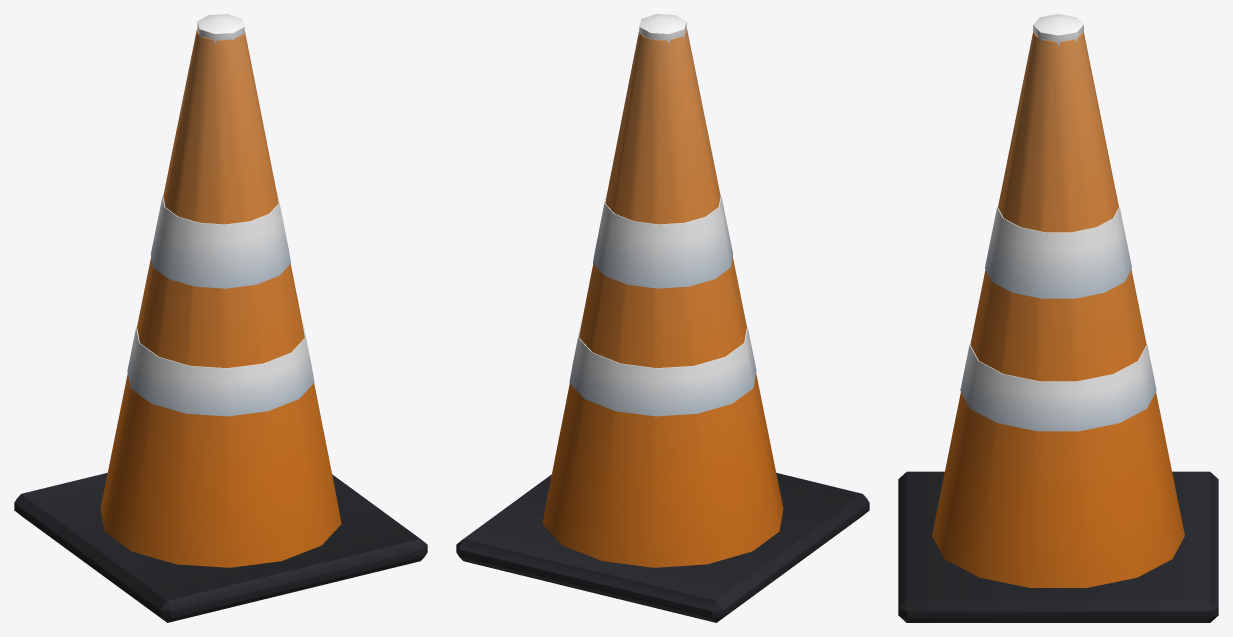
Rendered from ck_traffic_cone.fbx.
The picture shows the model from 3 angles, left to right: view 1: azimuth 30°, elevation 25°; view 2: azimuth 150°, elevation 25°; view 3: azimuth 270°, elevation 25°; orthographic projection. The views are drawn at different scales.
Visible parts, largest first — view 1: ck_traffic_cone; view 2: ck_traffic_cone; view 3: ck_traffic_cone.
Boxes of the visible parts, <box> form: ck_traffic_cone: <box>14,14,427,622</box>; ck_traffic_cone: <box>456,14,869,622</box>; ck_traffic_cone: <box>898,14,1218,622</box>.
Bounding box in the file's own units: 124 × 230 × 124.
